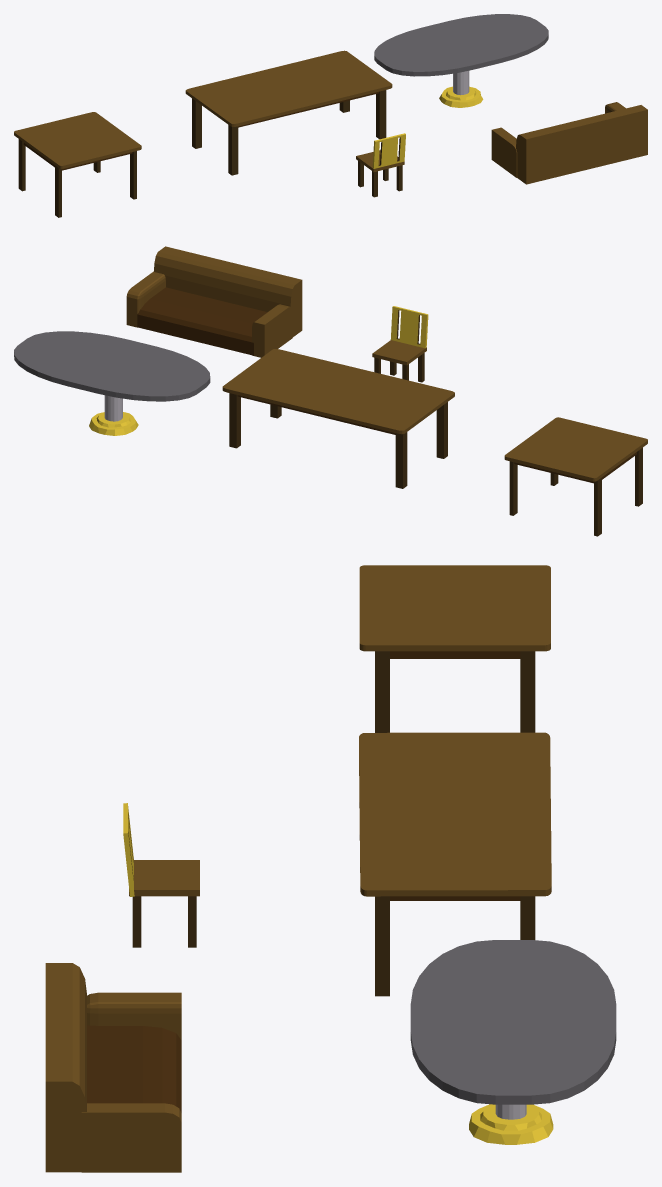
Rendered from couch.fbx.
The picture shows the model from 3 angles, top to bottom: view 1: azimuth 30°, elevation 25°; view 2: azimuth 150°, elevation 25°; view 3: azimuth 270°, elevation 25°; orthographic projection. The views are drawn at different scales.
Visible parts, largest first — view 1: Cube.002, Cube.011, Cube.003, Cube.007, Cube.001; view 2: Cube.003, Cube.002, Cube.011, Cube.007, Cube.001; view 3: Cube.002, Cube.011, Cube.003, Cube.007, Cube.001.
Boxes of the visible parts, left/top/right/bottom form: Cube.002: left=185, top=50, right=392, bottom=175; Cube.011: left=374, top=14, right=548, bottom=107; Cube.003: left=491, top=102, right=647, bottom=184; Cube.007: left=14, top=112, right=141, bottom=217; Cube.001: left=356, top=133, right=405, bottom=197; Cube.003: left=126, top=246, right=302, bottom=357; Cube.002: left=222, top=349, right=454, bottom=488; Cube.011: left=14, top=331, right=210, bottom=435; Cube.007: left=504, top=417, right=647, bottom=536; Cube.001: left=372, top=306, right=428, bottom=382; Cube.002: left=359, top=732, right=551, bottom=996; Cube.011: left=410, top=940, right=616, bottom=1144; Cube.003: left=45, top=963, right=181, bottom=1172; Cube.007: left=359, top=565, right=550, bottom=732; Cube.001: left=123, top=803, right=199, bottom=947.
Size of the model in its own units: 2402 by 322 by 1143.
